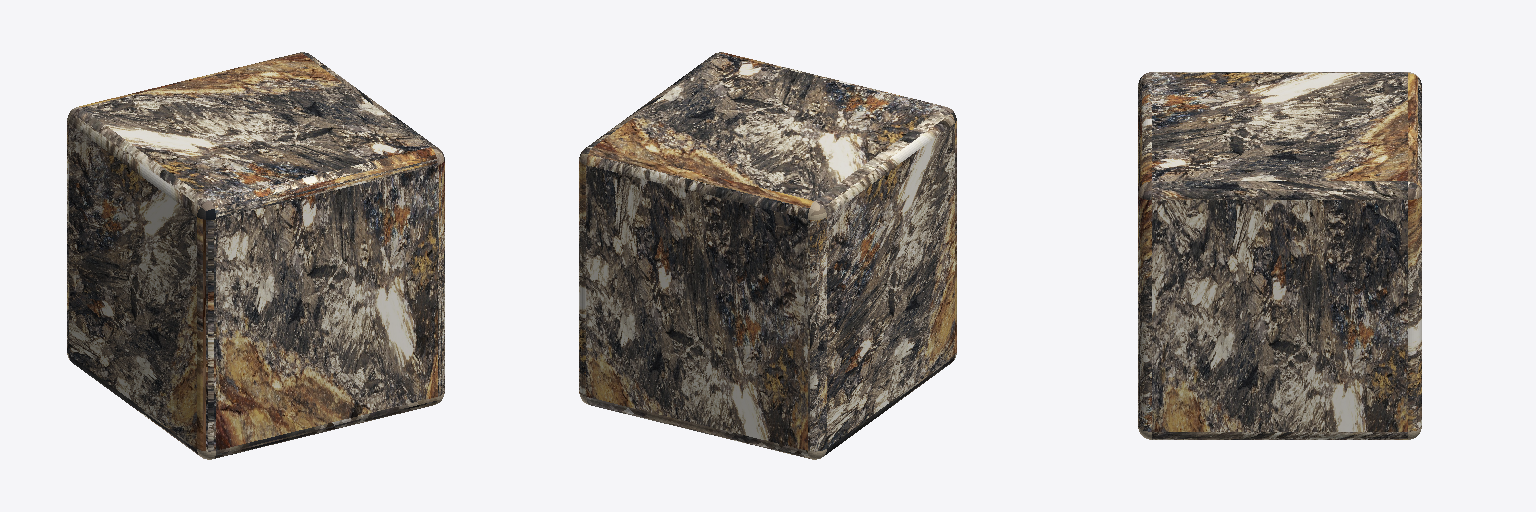
3 renders of one model, left to right at view 1: azimuth 30°, elevation 25°; view 2: azimuth 150°, elevation 25°; view 3: azimuth 270°, elevation 25°, orthographic.
Visible parts, largest first — view 1: Cube; view 2: Cube; view 3: Cube.
Part boxes in pixels (left/top/right/bottom): Cube: left=67, top=52, right=444, bottom=459; Cube: left=579, top=52, right=956, bottom=459; Cube: left=1138, top=72, right=1421, bottom=439.
Bounding box in the file's own units: 2 × 2 × 2.
1 materials, 1 textured.